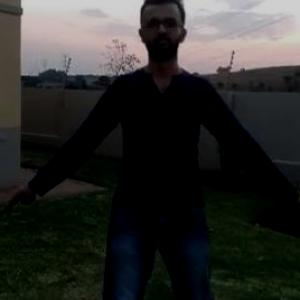land: (13, 0, 299, 292)
